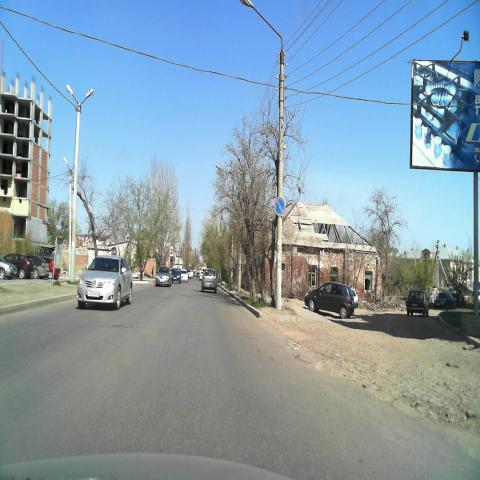3_28: (274, 196, 286, 217)
